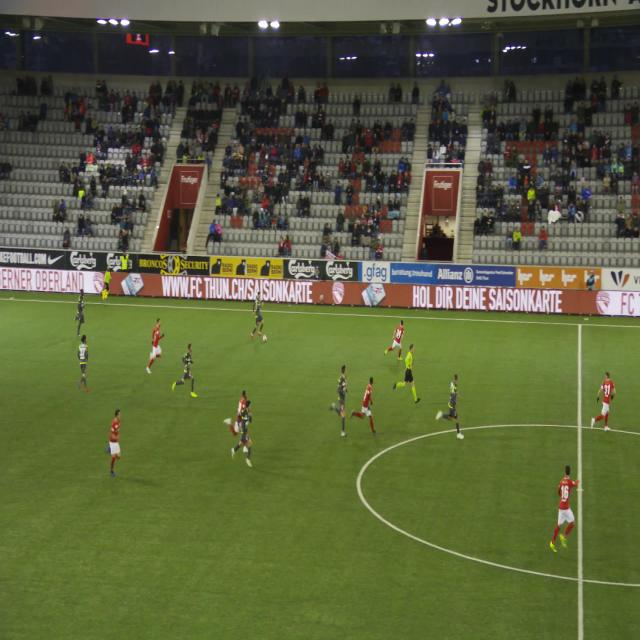Ball: (261, 328, 269, 348)
Player: (546, 462, 588, 559), (585, 368, 626, 440), (435, 369, 468, 452), (351, 372, 380, 448), (140, 310, 171, 380), (230, 394, 254, 479), (172, 338, 200, 404), (104, 404, 127, 484), (248, 281, 272, 354), (328, 358, 348, 444), (221, 381, 247, 440), (71, 332, 95, 394), (384, 313, 408, 362), (70, 285, 90, 343)
Referee: (390, 340, 426, 413), (101, 261, 115, 305)
